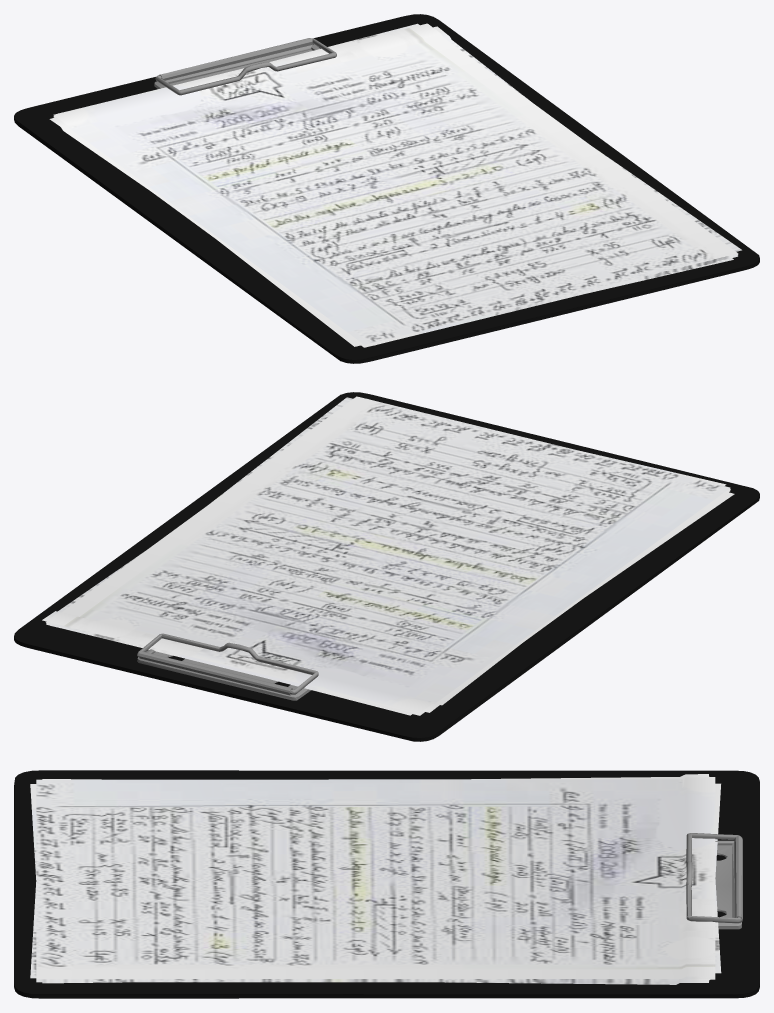
File: Clipboard.FBX
3 renders of one model, top to bottom at view 1: azimuth 30°, elevation 25°; view 2: azimuth 150°, elevation 25°; view 3: azimuth 270°, elevation 25°, orthographic. The views are drawn at different scales.
Parts seen in each view (by area): view 1: Clipboard; view 2: Clipboard; view 3: Clipboard.
Part boxes in pixels (x1,y1,x2,y2): Clipboard: (14, 14, 759, 363); Clipboard: (14, 392, 759, 741); Clipboard: (14, 770, 759, 998).
Bounding box in the file's own units: 24.6 × 1.29 × 34.62.
3 materials, 2 textured.
